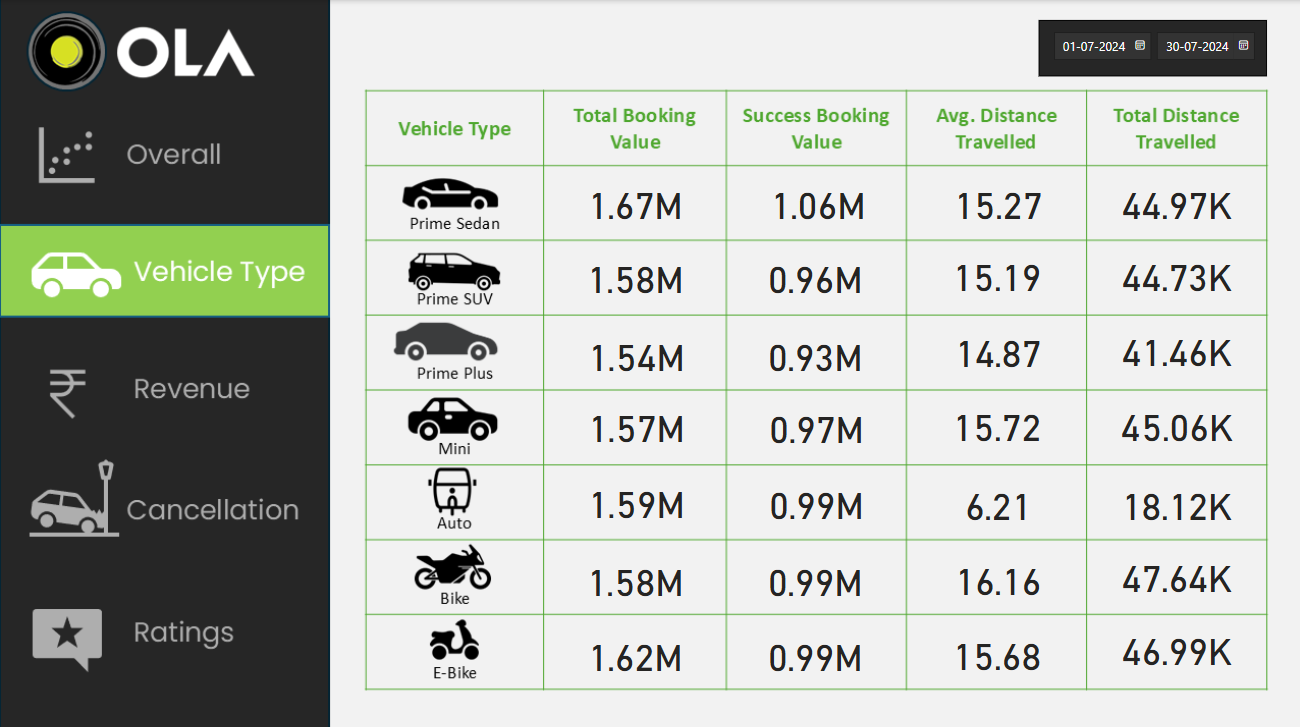

The dashboard page shown, as its layout file describes it:
{"tool":"powerbi","page":{"name":"Vehicle_Type","canvas":[1280,720],"ordinal":1},"visuals":[{"type":"actionButton","box":[0,100.6,323.9,94.5],"z":0},{"type":"actionButton","box":[0,331.3,323.9,94.5],"z":1000},{"type":"actionButton","box":[0,446.6,323.9,94.5],"z":2000},{"type":"actionButton","box":[0,571.8,323.9,94.5],"z":3000},{"type":"card","fields":{"Values":["Sum(July.Booking_Value)"]},"box":[533.8,163.3,179.8,71.4],"z":4000},{"type":"card","fields":{"Values":["Sum(July.Booking_Value)"]},"box":[533.8,234.6,179.8,75.5],"z":5000},{"type":"card","fields":{"Values":["Sum(July.Booking_Value)"]},"box":[535.2,310.1,179.8,75.5],"z":6000},{"type":"card","fields":{"Values":["Sum(July.Booking_Value)"]},"box":[535.2,380.1,179.8,75.5],"z":7000},{"type":"card","fields":{"Values":["Sum(July.Booking_Value)"]},"box":[535.2,455.6,179.8,75.5],"z":8000},{"type":"card","fields":{"Values":["Sum(July.Booking_Value)"]},"box":[533.8,531,179.8,75.5],"z":9000},{"type":"card","fields":{"Values":["Sum(July.Booking_Value)"]},"box":[533.8,606.5,179.8,72.7],"z":10000},{"type":"card","fields":{"Values":["Sum(July.Booking_Value)"]},"box":[714.9,163.3,175.6,71.4],"z":11000},{"type":"card","fields":{"Values":["Sum(July.Booking_Value)"]},"box":[710.8,234.6,179.8,75.5],"z":12000},{"type":"card","fields":{"Values":["Sum(July.Booking_Value)"]},"box":[710.8,311.5,179.8,74.1],"z":13000},{"type":"card","fields":{"Values":["Sum(July.Booking_Value)"]},"box":[712.2,381.5,179.8,75.5],"z":14000},{"type":"card","fields":{"Values":["Sum(July.Booking_Value)"]},"box":[712.2,456.9,179.8,75.5],"z":15000},{"type":"card","fields":{"Values":["Sum(July.Booking_Value)"]},"box":[710.8,531,179.8,75.5],"z":16000},{"type":"card","fields":{"Values":["Sum(July.Booking_Value)"]},"box":[710.8,606.5,179.8,72.7],"z":17000},{"type":"card","fields":{"Values":["Sum(July.Ride_Distance)"]},"box":[1067.6,163.3,175.6,71.4],"z":18000},{"type":"card","fields":{"Values":["Sum(July.Ride_Distance)"]},"box":[1067.6,234.6,175.6,71.4],"z":19000},{"type":"card","fields":{"Values":["Sum(July.Ride_Distance)"]},"box":[1067.6,307.4,175.6,71.4],"z":20000},{"type":"card","fields":{"Values":["Sum(July.Ride_Distance)"]},"box":[1067.6,381.5,175.6,71.4],"z":21000},{"type":"card","fields":{"Values":["Sum(July.Ride_Distance)"]},"box":[1067.6,458.3,175.6,71.4],"z":22000},{"type":"card","fields":{"Values":["Sum(July.Ride_Distance)"]},"box":[1067.6,529.7,175.6,71.4],"z":23000},{"type":"card","fields":{"Values":["Sum(July.Ride_Distance)"]},"box":[1067.6,601,175.6,71.4],"z":24000},{"type":"card","fields":{"Values":["Avg(July.Ride_Distance)"]},"box":[891.9,163.3,175.6,71.4],"z":25000},{"type":"card","fields":{"Values":["Avg(July.Ride_Distance)"]},"box":[890.6,234.6,175.6,71.4],"z":26000},{"type":"card","fields":{"Values":["Avg(July.Ride_Distance)"]},"box":[891.9,308.7,175.6,71.4],"z":27000},{"type":"card","fields":{"Values":["Avg(July.Ride_Distance)"]},"box":[890.6,381.5,175.6,71.4],"z":28000},{"type":"card","fields":{"Values":["Avg(July.Ride_Distance)"]},"box":[891.9,458.3,175.6,71.4],"z":29000},{"type":"card","fields":{"Values":["Avg(July.Ride_Distance)"]},"box":[891.9,532.4,175.6,71.4],"z":30000},{"type":"card","fields":{"Values":["Avg(July.Ride_Distance)"]},"box":[890.6,606.5,175.6,71.4],"z":31000},{"type":"slicer","title":"Date","fields":{"Values":["July.Date"]},"box":[1019.6,19.2,223.7,54.9],"z":32000}]}

Visuals, with their boxes on the page's 1280x720 design canvas (x1, y1, x2, y2). These are canvas units, not pixel positions in the 1300x727 screenshot, which may show the page scaled, cropped or inside an application window:
actionButton: 0, 101, 324, 195
actionButton: 0, 331, 324, 426
actionButton: 0, 447, 324, 541
actionButton: 0, 572, 324, 666
card - Sum(July.Booking_Value): 534, 163, 714, 235
card - Sum(July.Booking_Value): 534, 235, 714, 310
card - Sum(July.Booking_Value): 535, 310, 715, 386
card - Sum(July.Booking_Value): 535, 380, 715, 456
card - Sum(July.Booking_Value): 535, 456, 715, 531
card - Sum(July.Booking_Value): 534, 531, 714, 606
card - Sum(July.Booking_Value): 534, 606, 714, 679
card - Sum(July.Booking_Value): 715, 163, 890, 235
card - Sum(July.Booking_Value): 711, 235, 891, 310
card - Sum(July.Booking_Value): 711, 312, 891, 386
card - Sum(July.Booking_Value): 712, 382, 892, 457
card - Sum(July.Booking_Value): 712, 457, 892, 532
card - Sum(July.Booking_Value): 711, 531, 891, 606
card - Sum(July.Booking_Value): 711, 606, 891, 679
card - Sum(July.Ride_Distance): 1068, 163, 1243, 235
card - Sum(July.Ride_Distance): 1068, 235, 1243, 306
card - Sum(July.Ride_Distance): 1068, 307, 1243, 379
card - Sum(July.Ride_Distance): 1068, 382, 1243, 453
card - Sum(July.Ride_Distance): 1068, 458, 1243, 530
card - Sum(July.Ride_Distance): 1068, 530, 1243, 601
card - Sum(July.Ride_Distance): 1068, 601, 1243, 672
card - Avg(July.Ride_Distance): 892, 163, 1068, 235
card - Avg(July.Ride_Distance): 891, 235, 1066, 306
card - Avg(July.Ride_Distance): 892, 309, 1068, 380
card - Avg(July.Ride_Distance): 891, 382, 1066, 453
card - Avg(July.Ride_Distance): 892, 458, 1068, 530
card - Avg(July.Ride_Distance): 892, 532, 1068, 604
card - Avg(July.Ride_Distance): 891, 606, 1066, 678
"Date" slicer: 1020, 19, 1243, 74
